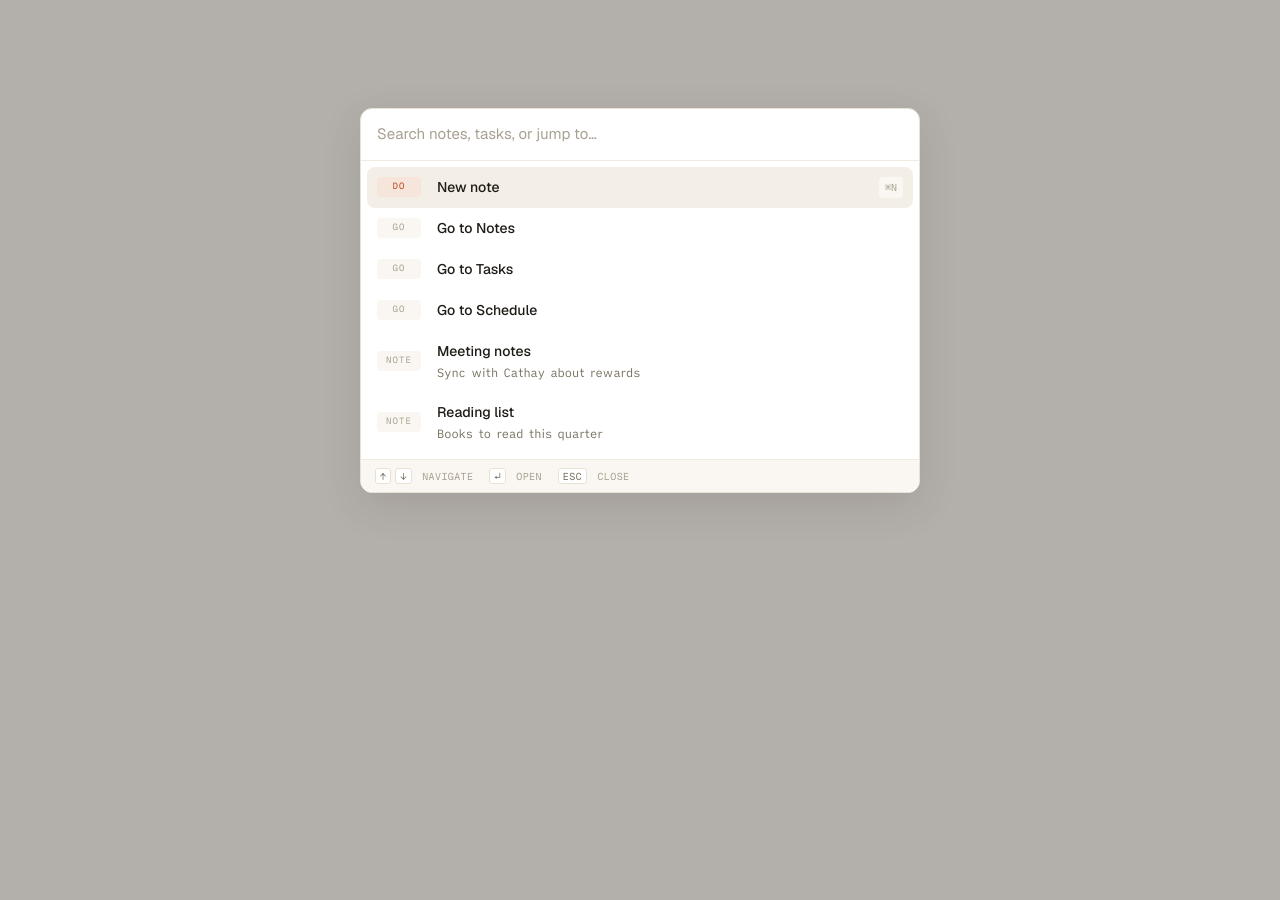
Test case: CommandPalette › shows empty-state when no matches
Type "zxqv-no-match" into the field with placeholder "Search notes, tasks, or jump to…" at (640, 135), box [361,109,919,160]
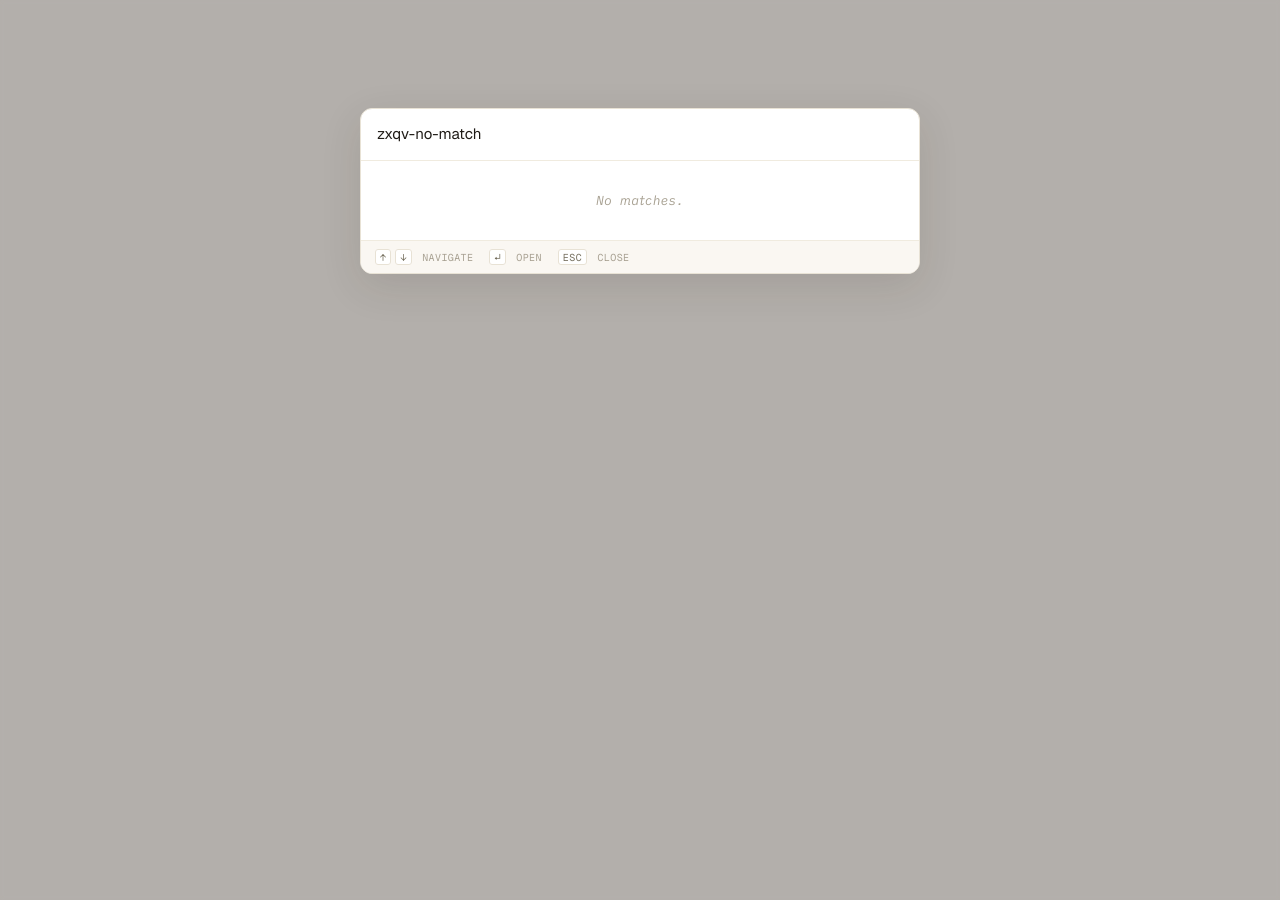
Check: the text "No matches." is shown, box [596,192,684,208]
